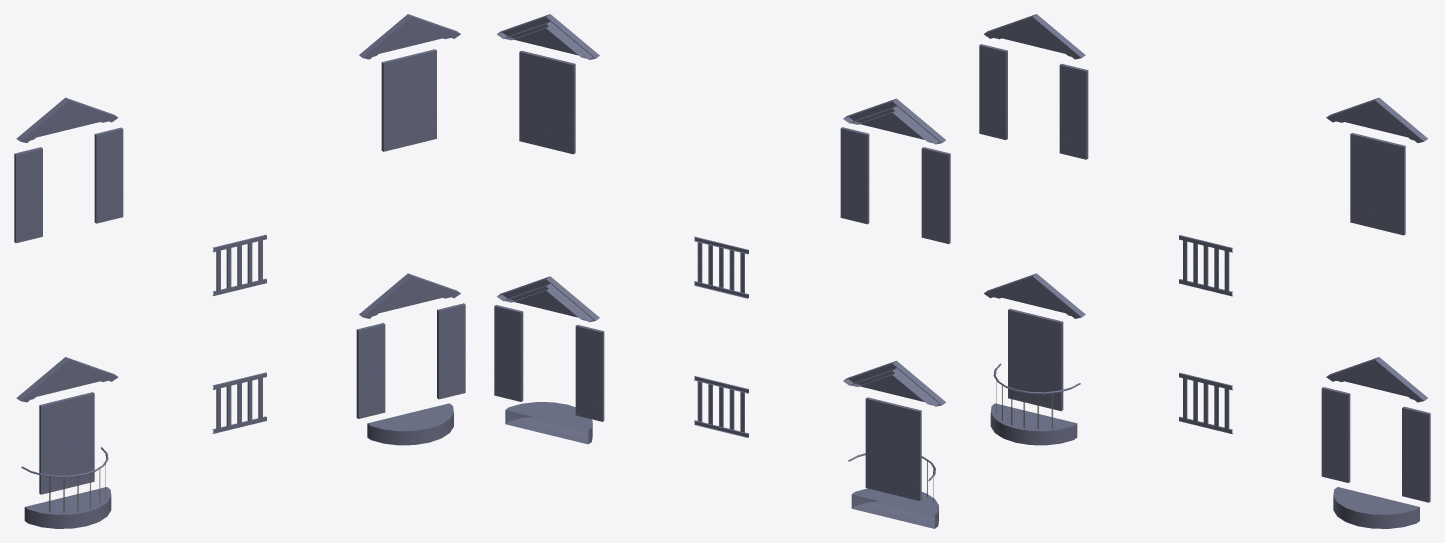
The model's file is objects_un_t06building03_wc3.gltf.
The picture shows the model from 3 angles, left to right: view 1: azimuth 30°, elevation 25°; view 2: azimuth 150°, elevation 25°; view 3: azimuth 330°, elevation 25°; orthographic projection.
Visible parts, largest first — view 1: um_objects_un_t06building03_wc3_model_lod0Shape:objects_un_t; view 2: um_objects_un_t06building03_wc3_model_lod0Shape:objects_un_t; view 3: um_objects_un_t06building03_wc3_model_lod0Shape:objects_un_t.
Part boxes in pixels (box(x1,y1,x2,y2)): um_objects_un_t06building03_wc3_model_lod0Shape:objects_un_t: box(14, 14, 465, 528); um_objects_un_t06building03_wc3_model_lod0Shape:objects_un_t: box(494, 14, 950, 528); um_objects_un_t06building03_wc3_model_lod0Shape:objects_un_t: box(979, 14, 1430, 528).
Size of what is drawn, in the model's own units: 8.57 by 7.53 by 0.821.
2 materials, 2 textured.
